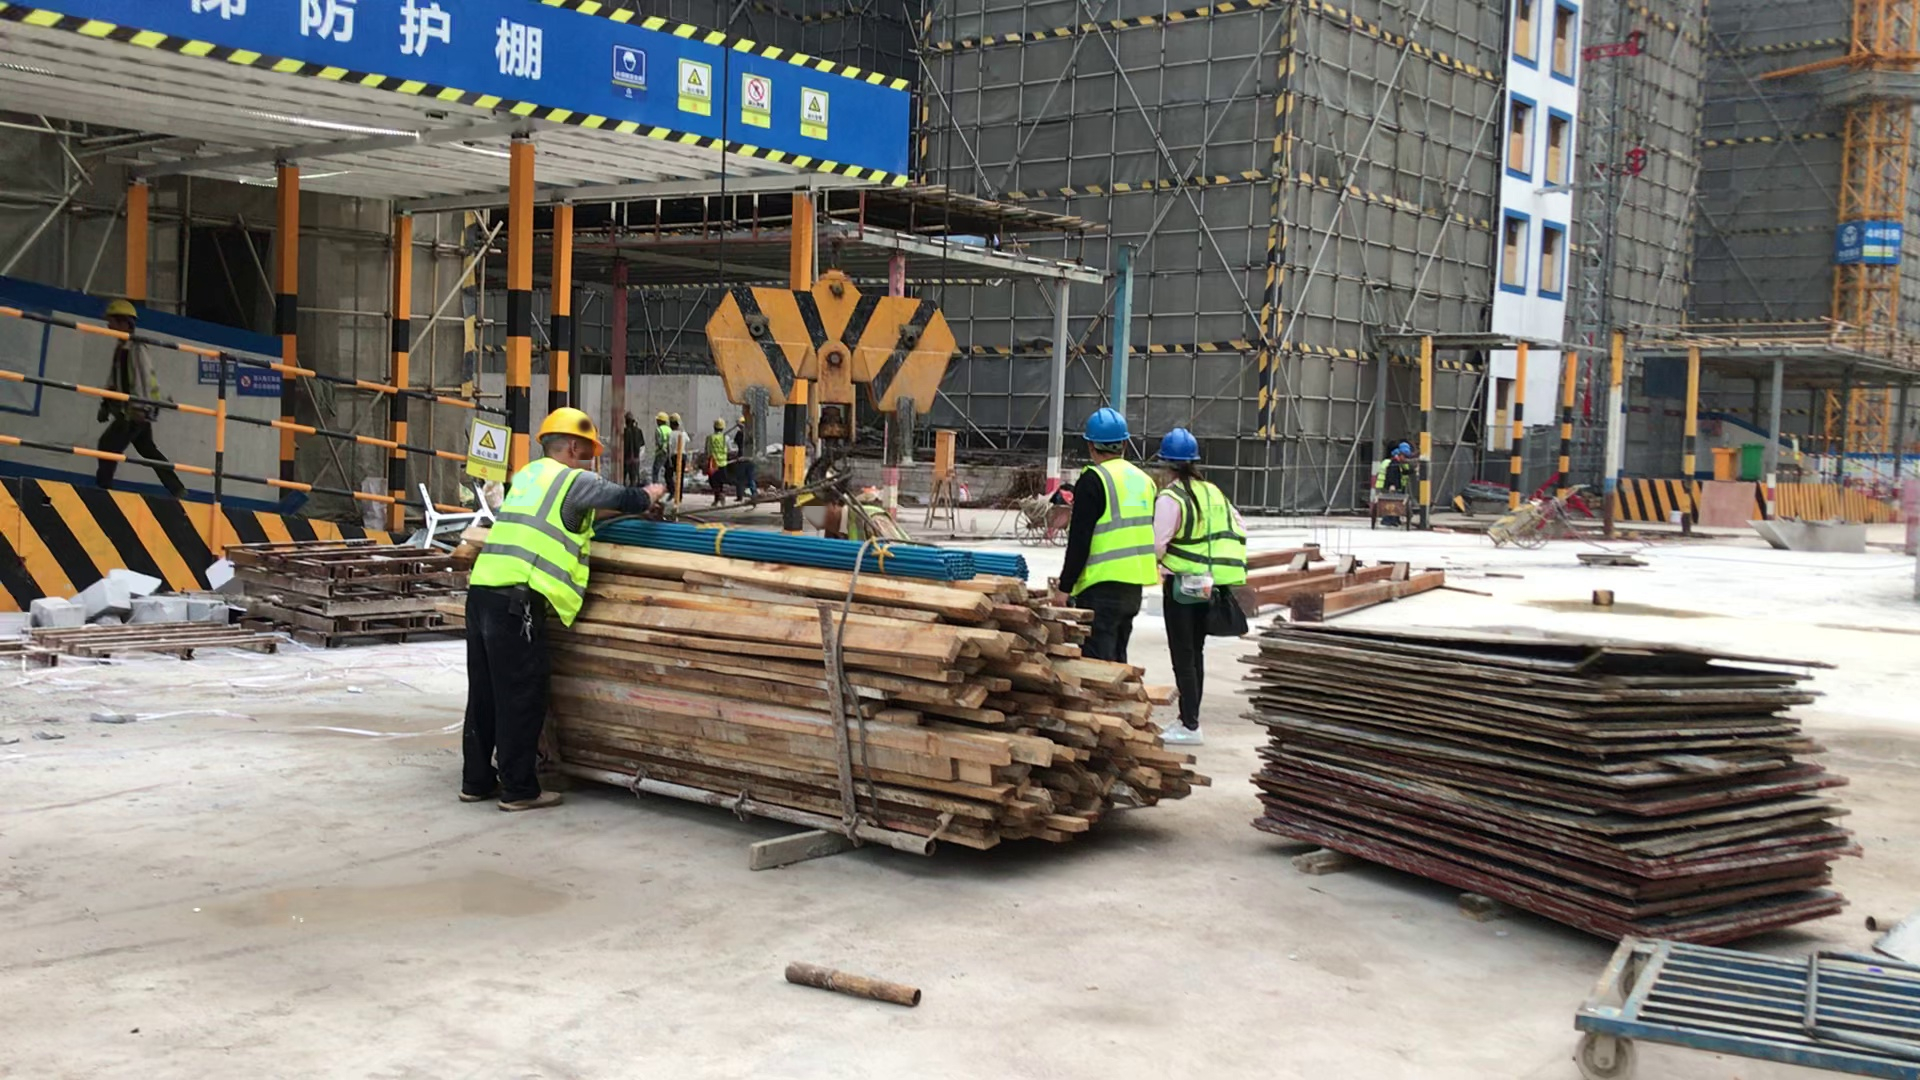board: (1248, 609, 1870, 961)
ebox: (931, 420, 955, 542)
handcart: (1479, 487, 1561, 564)
helmet: (536, 402, 610, 457), (1080, 409, 1136, 450), (1162, 431, 1205, 463), (652, 409, 685, 428), (1389, 444, 1415, 461), (714, 420, 729, 431), (734, 412, 743, 425)
hook: (696, 257, 960, 438)
hopper: (1746, 509, 1875, 554)
person: (456, 405, 619, 816), (1150, 426, 1253, 745), (1060, 410, 1162, 685), (1380, 440, 1414, 521), (701, 415, 729, 505), (623, 407, 647, 498), (735, 413, 757, 507), (664, 409, 690, 482), (650, 409, 669, 480)
slogan: (160, 1, 929, 192)
vest: (1077, 459, 1246, 601), (463, 454, 599, 629)
wood: (474, 503, 1223, 864)
